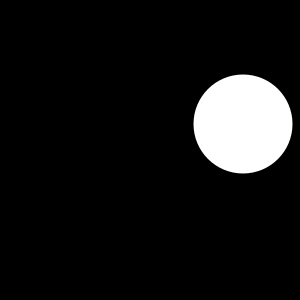rectangle: (194, 74, 292, 174)
